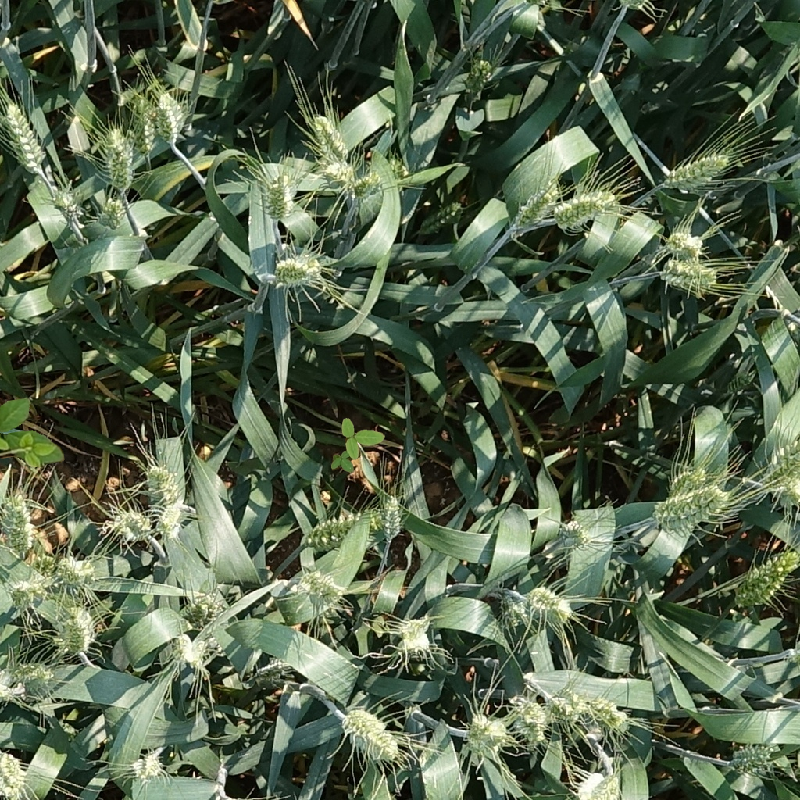spikelet: (728, 544, 799, 611), (339, 703, 404, 763), (649, 482, 731, 527), (1, 99, 47, 175), (662, 149, 732, 192), (552, 186, 619, 230), (510, 175, 563, 230), (96, 121, 136, 192), (299, 507, 361, 551), (753, 441, 800, 499), (289, 565, 347, 611), (53, 601, 98, 656), (141, 459, 188, 511), (658, 256, 718, 296), (369, 487, 409, 547), (726, 736, 779, 781), (1, 489, 36, 557), (150, 87, 190, 146), (180, 583, 228, 631), (462, 710, 511, 757), (584, 690, 634, 736), (124, 93, 159, 158), (256, 169, 297, 224), (308, 110, 350, 162), (10, 657, 60, 700), (525, 583, 576, 625), (509, 693, 550, 745), (104, 504, 154, 544), (91, 193, 131, 241), (169, 631, 214, 673), (570, 765, 624, 799), (271, 252, 323, 287), (52, 552, 96, 592), (49, 184, 88, 229), (243, 657, 293, 692), (417, 199, 465, 235), (547, 683, 589, 724), (664, 461, 710, 498), (394, 614, 435, 655), (7, 573, 48, 613), (1, 747, 32, 799), (128, 746, 168, 785), (551, 516, 593, 552), (493, 586, 529, 628), (663, 226, 706, 259), (155, 499, 188, 539), (462, 56, 494, 96), (344, 167, 378, 204)
weed: (1, 393, 66, 475), (331, 418, 385, 473)
